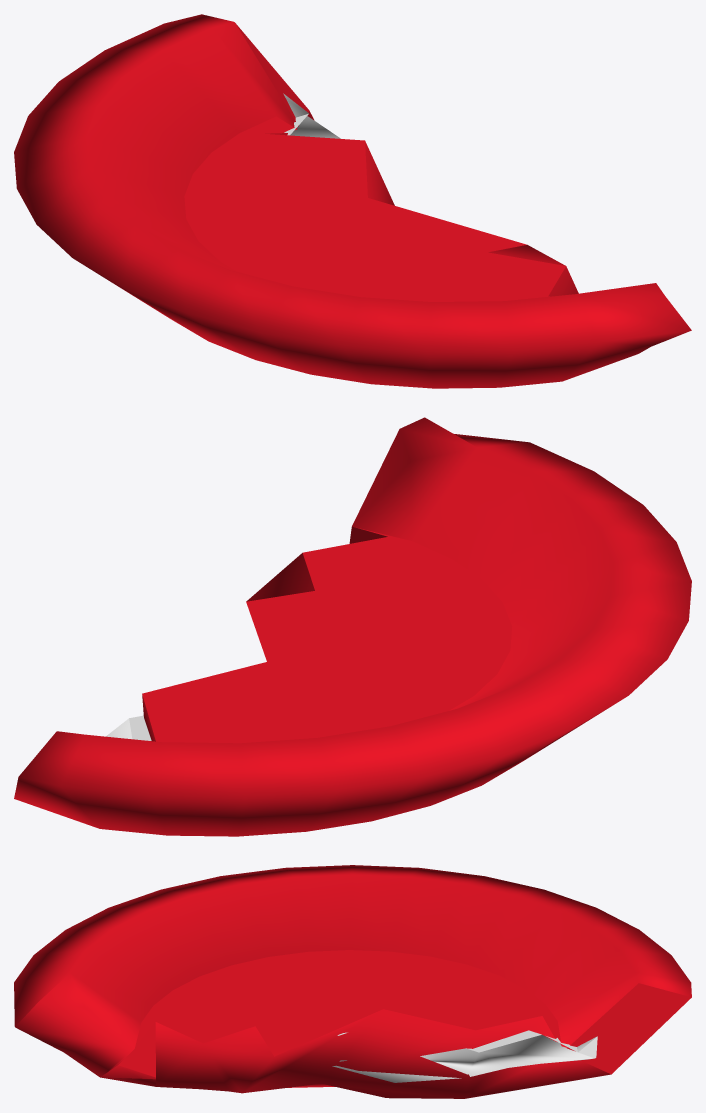
File: MitadPlatoFinal.fbx
3 views of the same model, one above another, from view 1: azimuth 30°, elevation 25°; view 2: azimuth 150°, elevation 25°; view 3: azimuth 270°, elevation 25° (orthographic). The views are drawn at different scales.
Visible parts, largest first — view 1: MitadPlato; view 2: MitadPlato; view 3: MitadPlato.
Boxes of the visible parts, x1,y1,x2,y2 form: MitadPlato: (14,14,691,388); MitadPlato: (14,417,691,836); MitadPlato: (14,865,691,1098).
Bounding box in the file's own units: 148 × 47.41 × 273.
